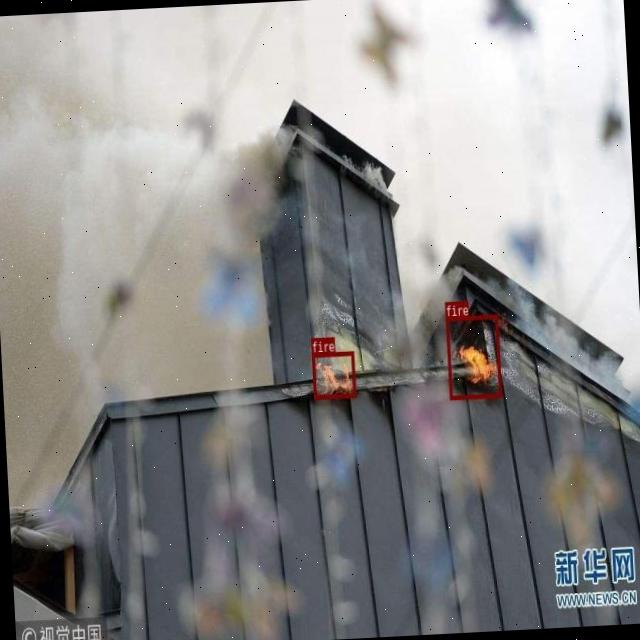fire: (446, 314, 502, 399), (312, 352, 356, 398)
